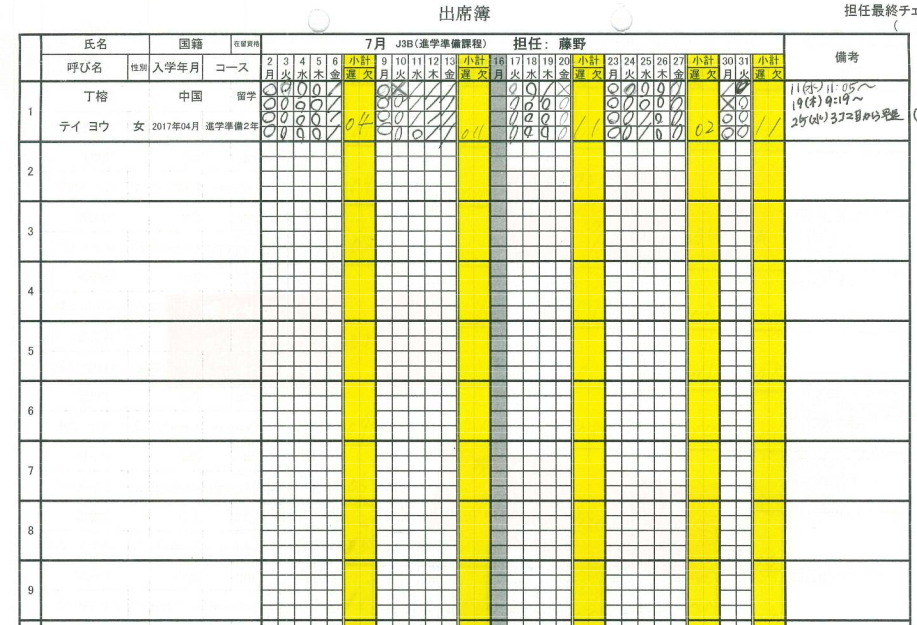/: (326, 80, 343, 96), (408, 97, 425, 113), (440, 126, 457, 142), (637, 111, 654, 127), (326, 125, 342, 141), (408, 81, 424, 97), (326, 96, 343, 111), (538, 81, 555, 96), (326, 111, 342, 126), (425, 81, 440, 97), (424, 97, 440, 112), (425, 126, 441, 141), (440, 81, 456, 96), (441, 96, 456, 112), (441, 111, 457, 126), (720, 81, 736, 96), (409, 112, 424, 127), (637, 126, 653, 140), (425, 112, 440, 126)
x: (720, 96, 736, 112), (556, 80, 570, 97), (392, 81, 407, 96)
